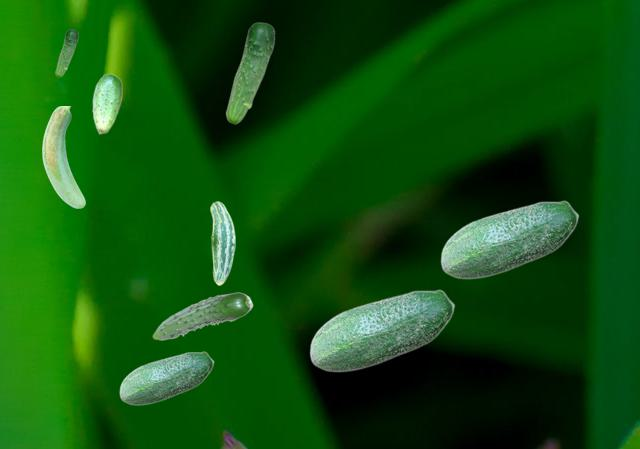cucumber: (309, 289, 454, 371), (440, 200, 578, 278), (119, 351, 213, 404), (225, 22, 274, 123), (152, 292, 252, 339), (42, 106, 84, 207), (210, 201, 234, 284), (92, 73, 121, 133), (55, 29, 77, 76)
